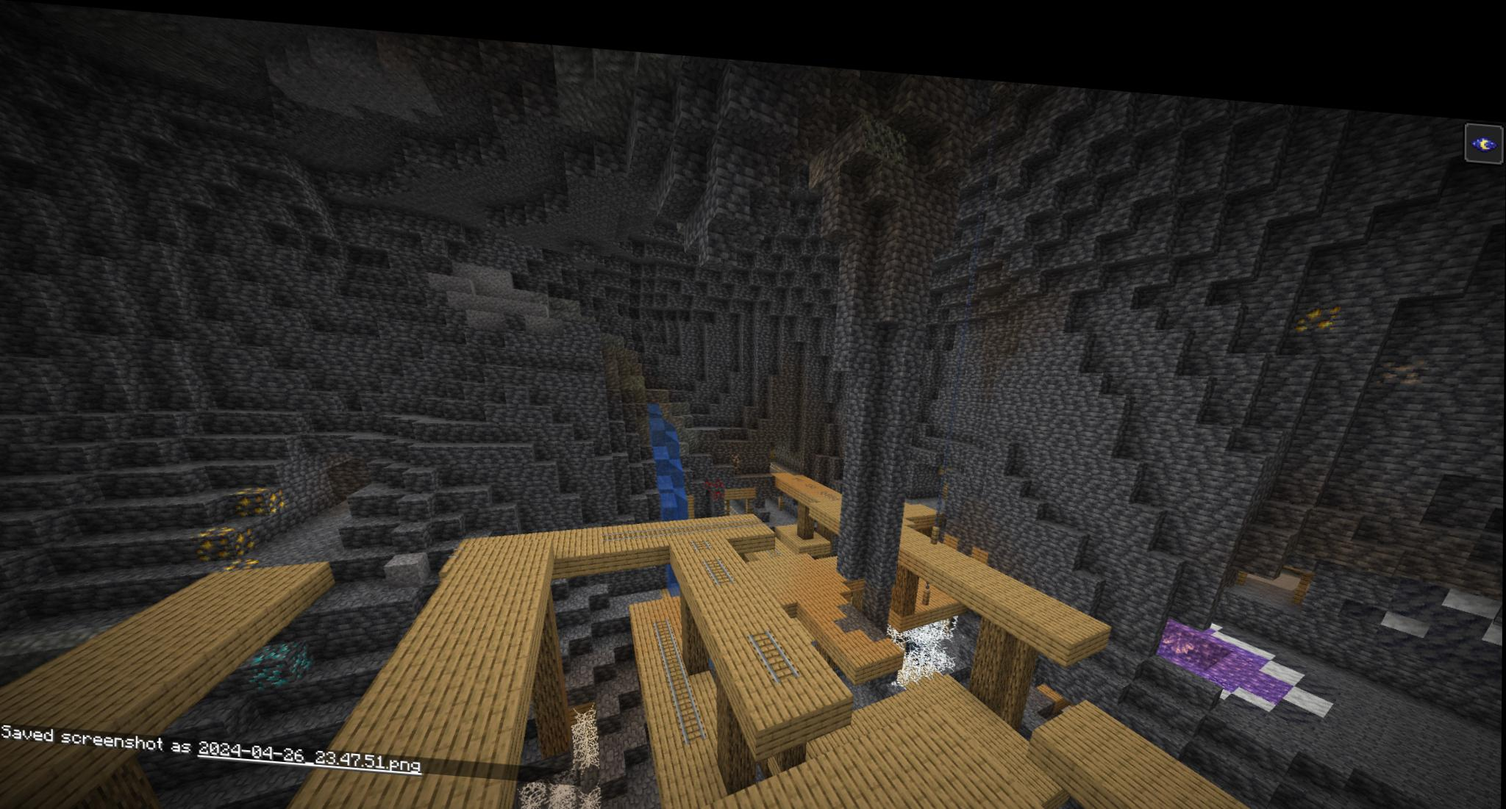diamond ore: (251, 636, 316, 689)
gold ore: (197, 517, 258, 569), (1292, 272, 1340, 317), (235, 476, 284, 513)
iron ore: (1376, 323, 1431, 372)
redstone ore: (703, 463, 726, 490)
